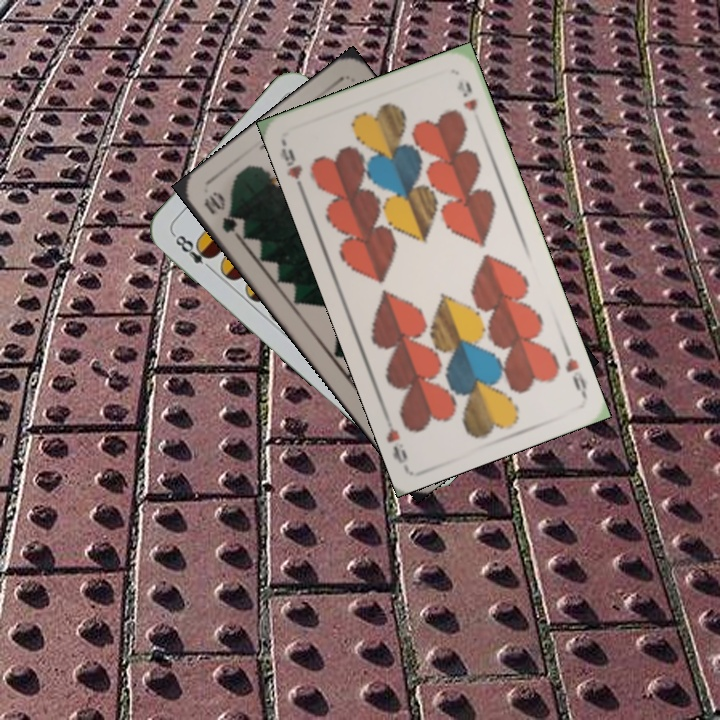E8: (169, 230, 217, 275)
G10: (199, 187, 243, 242)
H9: (276, 138, 307, 195), (560, 342, 589, 399)
